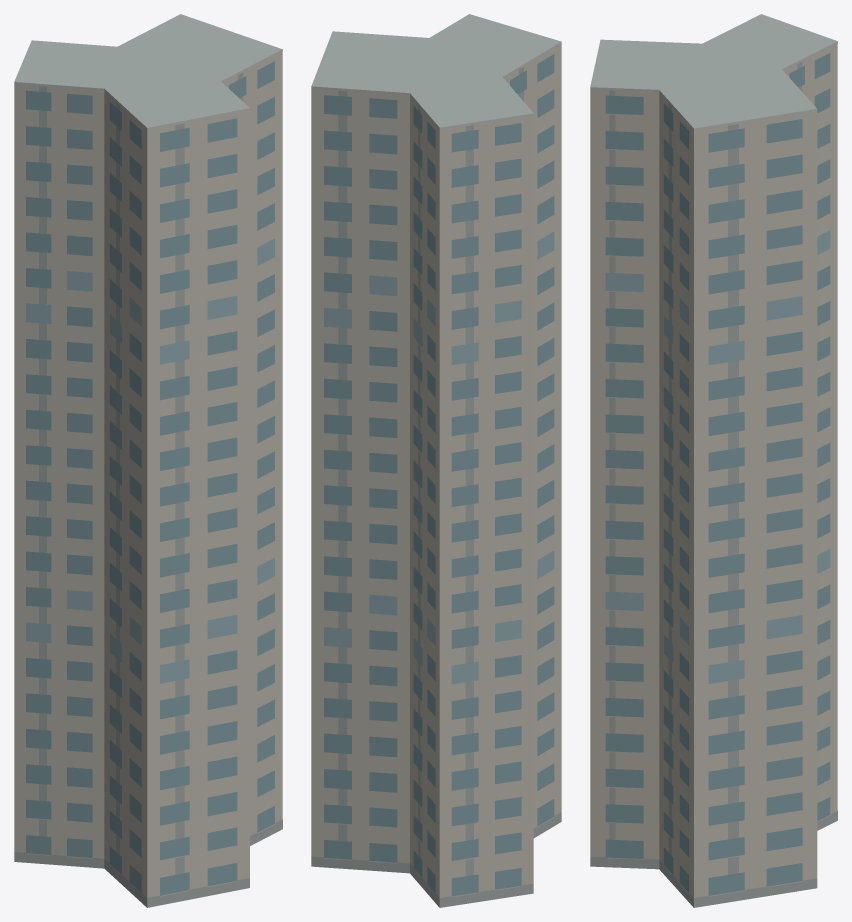
File: residential-8a30c4da-8ac6-4b2e-8ed4-c2626f6ae945.glb
The picture shows the model from 3 angles, left to right: view 1: azimuth 30°, elevation 25°; view 2: azimuth 150°, elevation 25°; view 3: azimuth 270°, elevation 25°; orthographic projection.
Visible parts, largest first — view 1: residential-8a30c4da-8ac6-4b2e-8ed4-c2626f6ae945.tmp; view 2: residential-8a30c4da-8ac6-4b2e-8ed4-c2626f6ae945.tmp; view 3: residential-8a30c4da-8ac6-4b2e-8ed4-c2626f6ae945.tmp.
Part boxes in pixels (x1=…): residential-8a30c4da-8ac6-4b2e-8ed4-c2626f6ae945.tmp: x1=14, y1=14, x2=282, y2=907; residential-8a30c4da-8ac6-4b2e-8ed4-c2626f6ae945.tmp: x1=311, y1=14, x2=561, y2=907; residential-8a30c4da-8ac6-4b2e-8ed4-c2626f6ae945.tmp: x1=590, y1=14, x2=837, y2=907.
Bounding box in the file's own units: 23.64 × 75 × 21.61.
